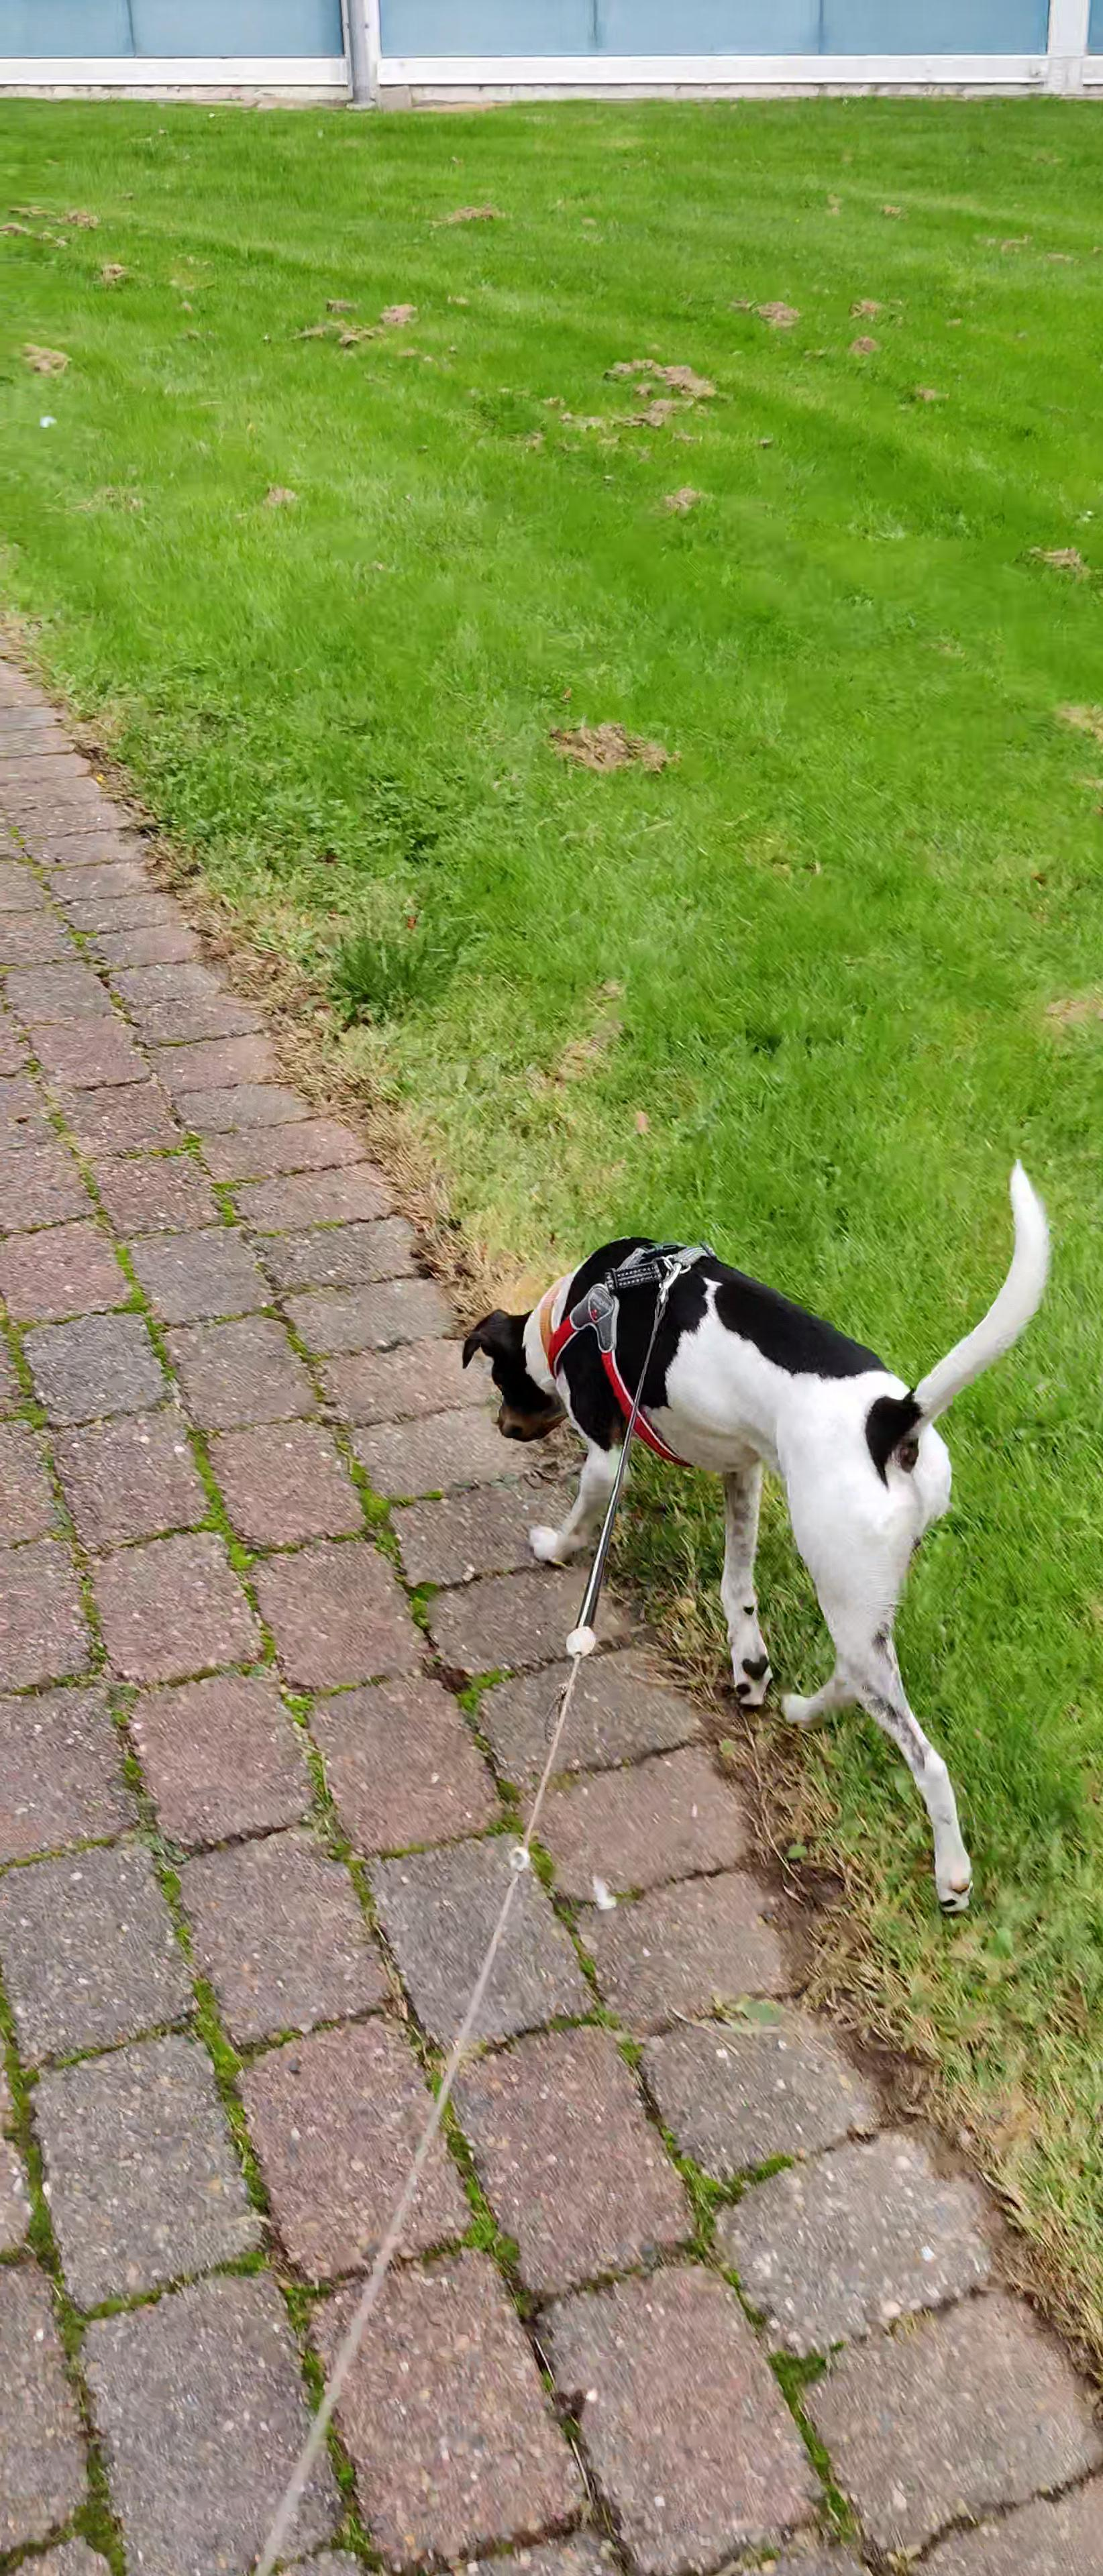Dog: (457, 1145, 1059, 1917)
